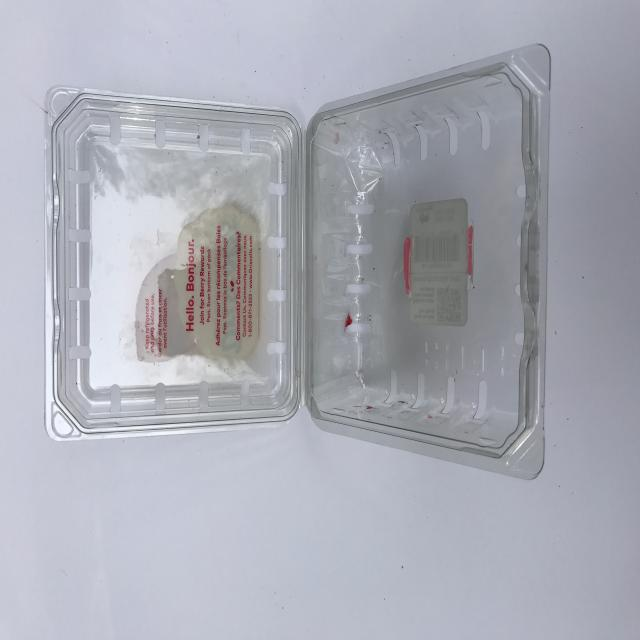plastic: (0, 27, 595, 551)
